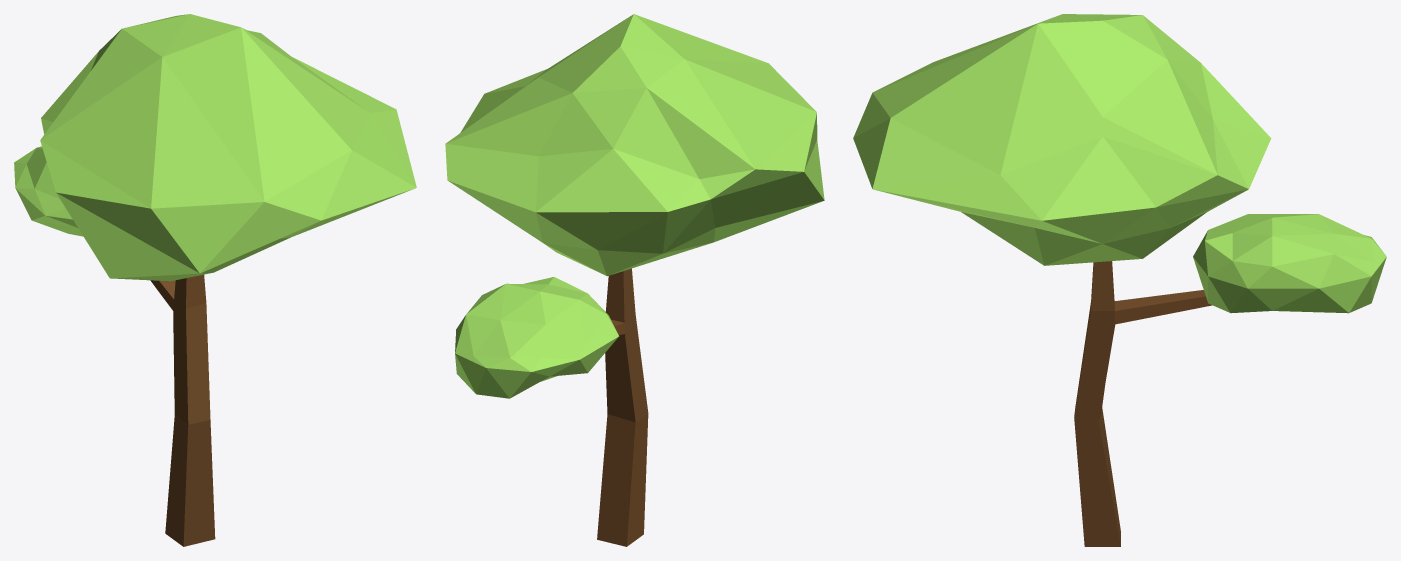
Rendered from Tree_2.fbx.
3 renders of one model, left to right at view 1: azimuth 30°, elevation 25°; view 2: azimuth 150°, elevation 25°; view 3: azimuth 270°, elevation 25°, orthographic. The views are drawn at different scales.
Parts seen in each view (by area): view 1: Leaf, Wood, Leaf2; view 2: Leaf, Leaf2, Wood; view 3: Leaf, Leaf2, Wood.
Part boxes in pixels (x1,y1,x2,y2): Leaf: [40, 14, 416, 281]; Wood: [150, 274, 215, 546]; Leaf2: [14, 146, 83, 236]; Leaf: [445, 14, 824, 276]; Leaf2: [455, 277, 618, 398]; Wood: [597, 268, 648, 546]; Leaf: [853, 14, 1271, 265]; Leaf2: [1193, 214, 1386, 313]; Wood: [1074, 261, 1212, 546].
Bounding box in the file's own units: 2149 × 3186 × 2938.
